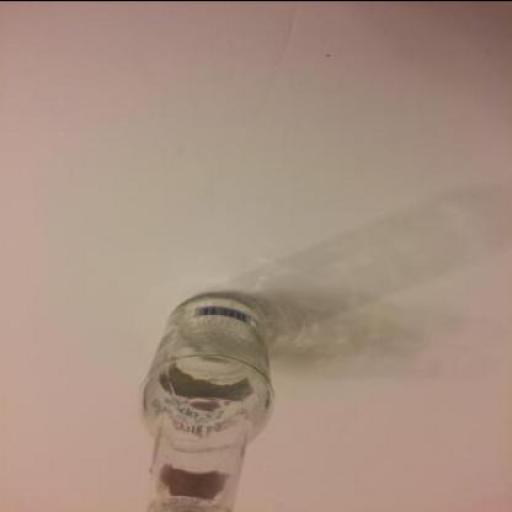glass: (142, 294, 278, 511)
